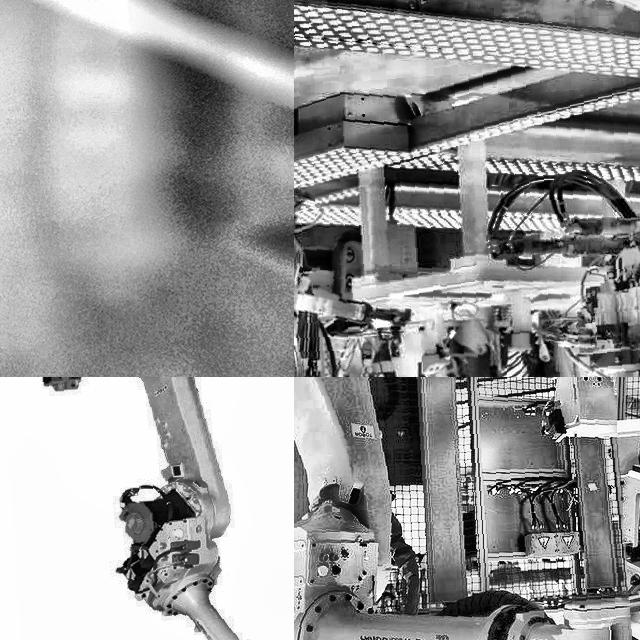robot: (294, 0, 640, 377), (294, 377, 624, 640), (0, 377, 294, 640)
